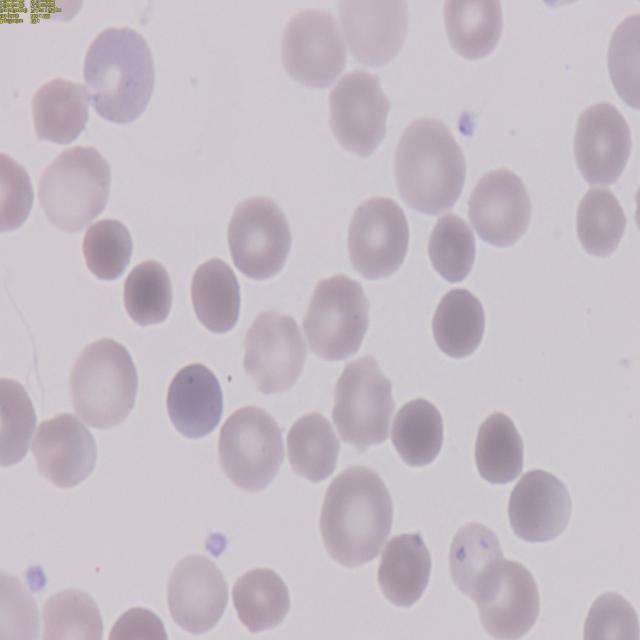RBC: (318, 463, 398, 572), (80, 24, 158, 132), (389, 112, 468, 218), (68, 335, 143, 432), (34, 142, 114, 232), (299, 270, 372, 364), (216, 406, 288, 498), (328, 358, 394, 458), (25, 414, 100, 497), (226, 196, 296, 282), (345, 195, 414, 282), (326, 70, 392, 160), (244, 308, 308, 400), (504, 468, 572, 554), (476, 555, 544, 640), (278, 9, 344, 96), (572, 100, 637, 188), (468, 168, 536, 252), (447, 519, 509, 611), (165, 552, 233, 635), (338, 0, 416, 72), (439, 0, 510, 63), (573, 188, 633, 262), (229, 568, 293, 636), (30, 80, 90, 147), (284, 415, 340, 486), (604, 13, 640, 118), (37, 589, 105, 640), (0, 372, 35, 471), (0, 150, 38, 234), (579, 592, 640, 640), (0, 572, 41, 640), (102, 605, 170, 640)
Spherocyte: (431, 286, 492, 368), (164, 363, 224, 446), (470, 410, 530, 490), (386, 396, 447, 474), (187, 260, 246, 338), (373, 530, 432, 608), (116, 257, 177, 330), (424, 214, 480, 292), (80, 216, 136, 286)
